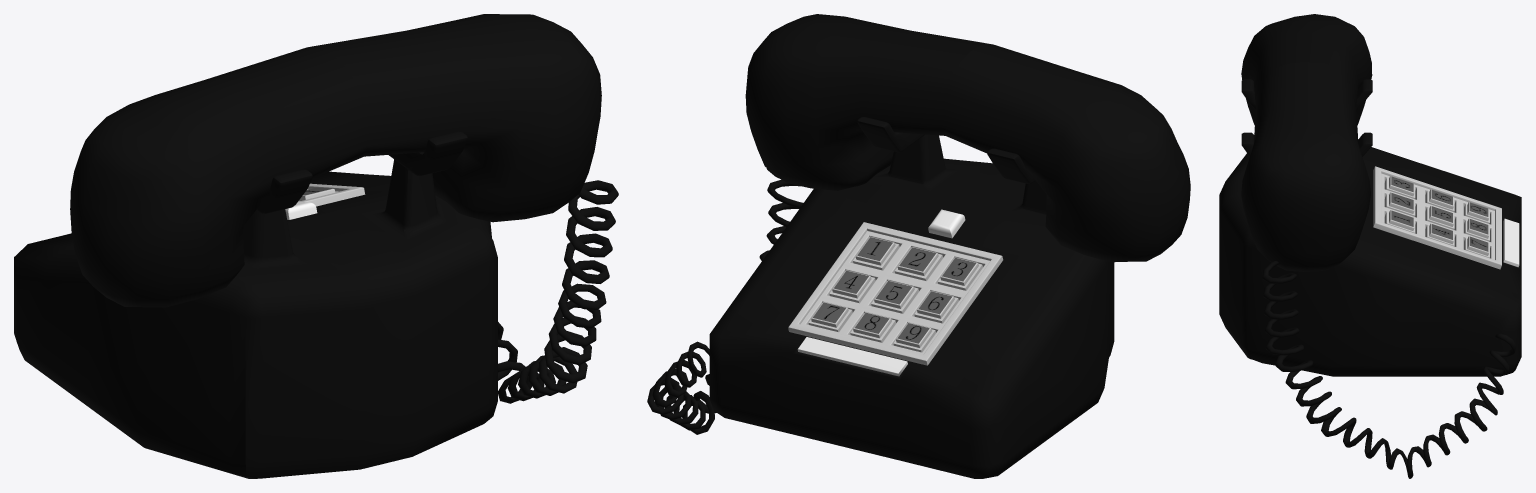
File: Aato_phone.fbx
The picture shows the model from 3 angles, left to right: view 1: azimuth 30°, elevation 25°; view 2: azimuth 150°, elevation 25°; view 3: azimuth 270°, elevation 25°; orthographic projection. The views are drawn at different scales.
Parts seen in each view (by area): view 1: pCube7; view 2: pCube7; view 3: pCube7.
Boxes of the visible parts, x1,y1,x2,y2 form: pCube7: [14, 14, 618, 478]; pCube7: [647, 14, 1190, 478]; pCube7: [1219, 14, 1521, 478].
Size of the model in its own units: 0.0128 by 0.011 by 0.00914.
4 materials, 4 textured.
